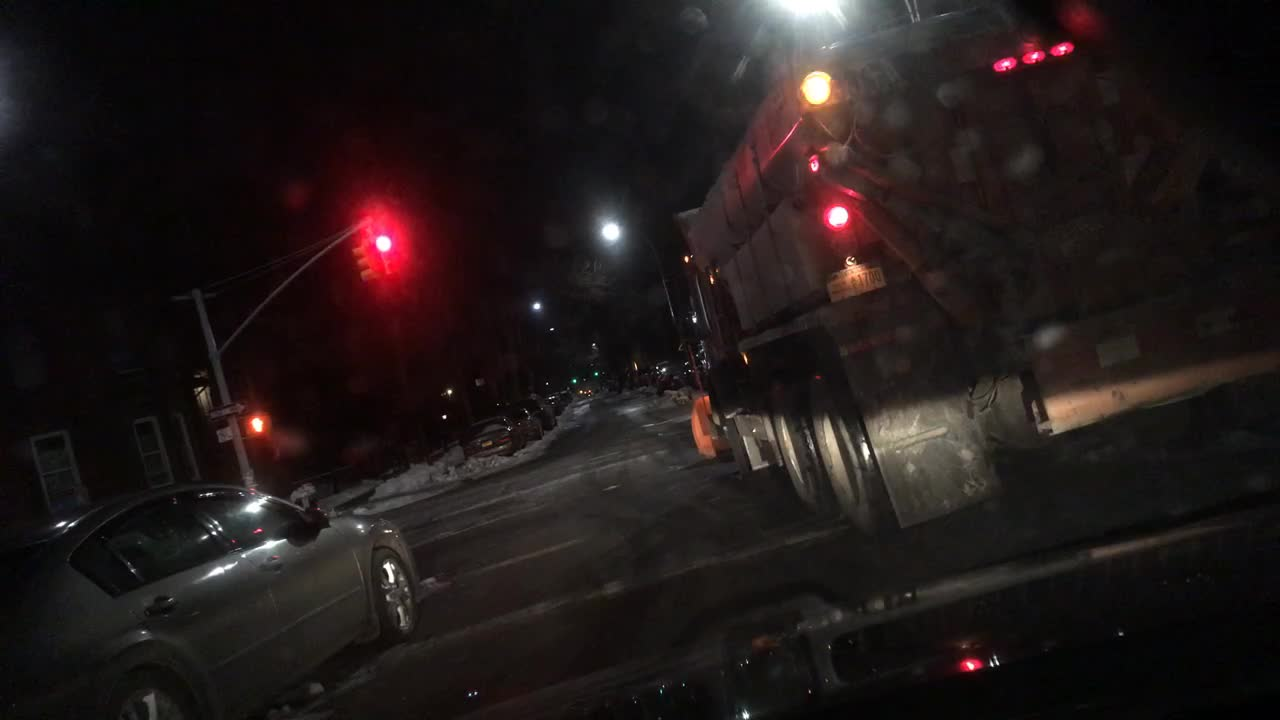car: (0, 482, 424, 718), (460, 415, 526, 454), (492, 406, 547, 436), (512, 400, 567, 427), (641, 359, 674, 393), (527, 391, 567, 413), (626, 362, 662, 384), (655, 359, 676, 390), (675, 361, 694, 389), (548, 386, 573, 401), (575, 381, 593, 399), (610, 370, 636, 382)
traffic light: (371, 219, 397, 275), (350, 235, 375, 281), (248, 413, 268, 436)
traffic sign: (203, 401, 248, 422)
truck: (658, 1, 1278, 532)
